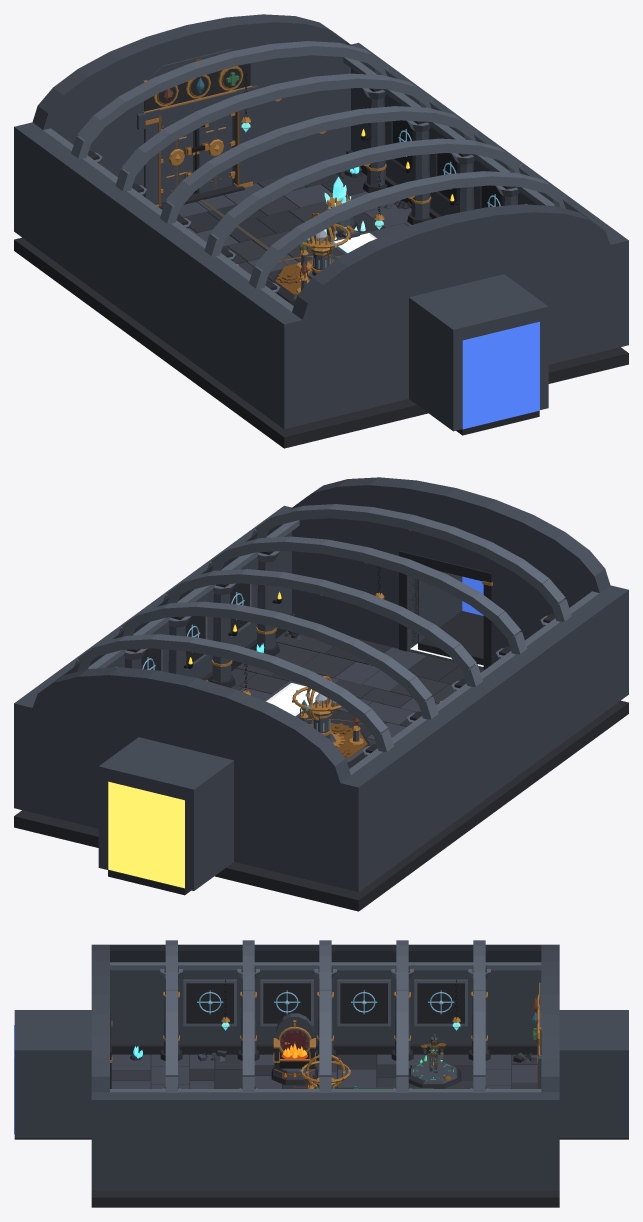
The model's file is Virelune_AncientSeal_Room.glb.
The picture shows the model from 3 angles, top to bottom: view 1: azimuth 30°, elevation 25°; view 2: azimuth 150°, elevation 25°; view 3: azimuth 270°, elevation 25°; orthographic projection. The views are drawn at different scales.
Visible parts, largest first — view 1: Wall_Front_Entrance, Wall_West, Wall_Back_Gate, Entrance, Floor_Subslab, Floor_Flagstones, Wall_East, Ceiling_Rib_20, Ceiling_Rib_15, Ceiling_Rib_05, Ceiling_Rib_00, Ceiling_Rib_10 (+8 smaller); view 2: Wall_Back_Gate, Wall_West, Wall_Front_Entrance, Gate_Alcove, Floor_Subslab, Floor_Flagstones, Wall_East, Gate_Glow, Entrance, Ceiling_Rib_00, Ceiling_Rib_05, Ceiling_Rib_15 (+8 smaller); view 3: Wall_East, Wall_West, Entrance, Wall_West_Reliefs, Floor_Flagstones, Gate_Alcove, Floor_Subslab, Ceiling_Panels, Wall_Back_Gate, Wall_Front_Entrance, Ceiling_Rib_00, Ceiling_Rib_05 (+13 smaller).
Part boxes in pixels (<box>): Wall_Front_Entrance: <box>274,204,628,428</box>; Wall_West: <box>14,122,302,429</box>; Wall_Back_Gate: <box>14,14,368,238</box>; Entrance: <box>409,274,548,435</box>; Floor_Subslab: <box>14,182,628,448</box>; Floor_Flagstones: <box>178,168,411,282</box>; Wall_East: <box>343,42,628,349</box>; Ceiling_Rib_20: <box>249,171,568,288</box>; Ceiling_Rib_15: <box>204,138,524,256</box>; Ceiling_Rib_05: <box>115,73,435,191</box>; Ceiling_Rib_00: <box>71,41,391,158</box>; Ceiling_Rib_10: <box>160,106,479,223</box>; Wall_Back_Gate: <box>14,667,368,891</box>; Wall_West: <box>340,585,628,892</box>; Wall_Front_Entrance: <box>276,477,628,701</box>; Gate_Alcove: <box>98,737,233,895</box>; Floor_Subslab: <box>14,647,628,911</box>; Floor_Flagstones: <box>231,630,483,745</box>; Wall_East: <box>14,505,299,812</box>; Gate_Glow: <box>108,781,184,888</box>; Entrance: <box>399,551,492,669</box>; Ceiling_Rib_00: <box>74,634,393,751</box>; Ceiling_Rib_05: <box>118,601,438,719</box>; Ceiling_Rib_15: <box>207,536,527,654</box>; Wall_East: <box>91,1089,559,1190</box>; Wall_West: <box>110,962,541,1054</box>; Entrance: <box>14,1010,112,1139</box>; Wall_West_Reliefs: <box>183,979,467,1026</box>; Floor_Flagstones: <box>111,1054,537,1088</box>; Gate_Alcove: <box>559,1010,628,1139</box>; Floor_Subslab: <box>91,1054,559,1207</box>; Ceiling_Panels: <box>110,944,541,961</box>; Wall_Back_Gate: <box>541,944,559,1190</box>; Wall_Front_Entrance: <box>91,944,109,1190</box>; Ceiling_Rib_00: <box>473,940,485,1092</box>; Ceiling_Rib_05: <box>396,940,408,1092</box>.
Bounding box in the file's own units: 22.4 × 11.68 × 39.94.
